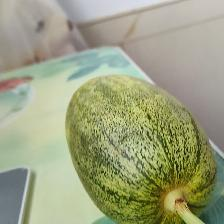gua: (74, 80, 210, 217)
